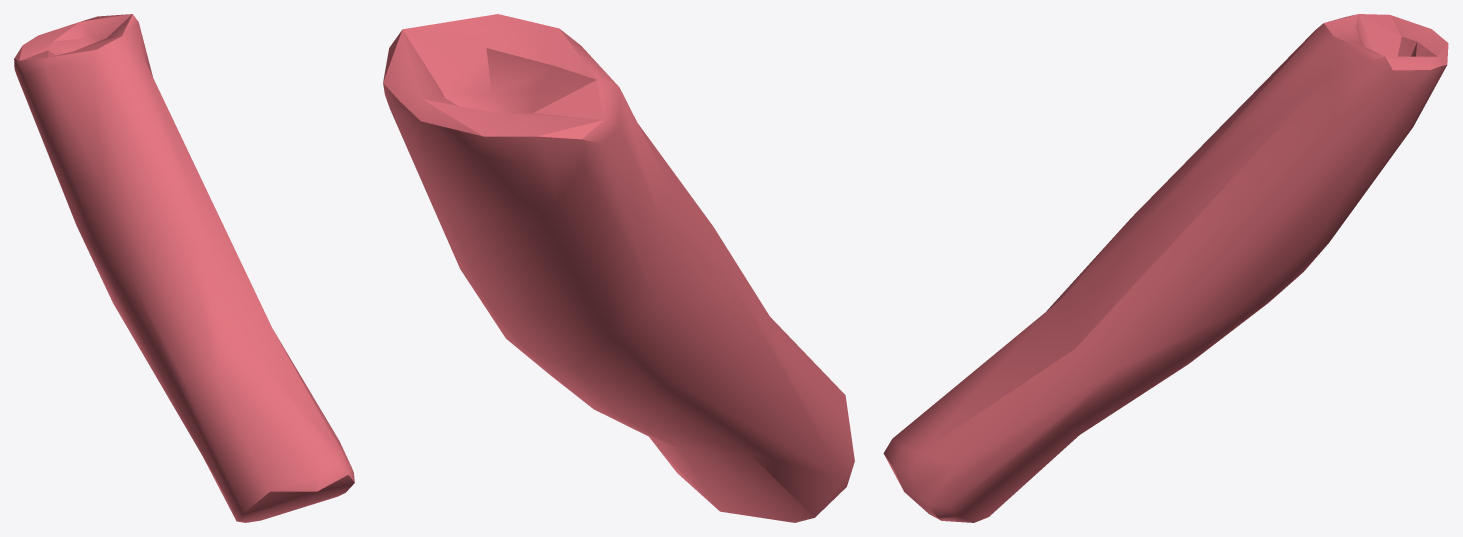
Rendered from fma14332.glb.
The picture shows the model from 3 angles, left to right: view 1: azimuth 30°, elevation 25°; view 2: azimuth 150°, elevation 25°; view 3: azimuth 270°, elevation 25°; orthographic projection. The views are drawn at different scales.
Parts seen in each view (by area): view 1: FMA14332; view 2: FMA14332; view 3: FMA14332.
Boxes of the visible parts, x1,y1,x2,y2 form: FMA14332: (14,14,354,522); FMA14332: (383,14,854,522); FMA14332: (883,14,1448,522).
Bounding box in the file's own units: 0.00969 × 0.0231 × 0.0251.
